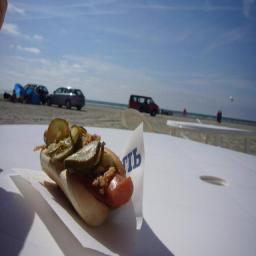hotdog: (86, 164, 134, 207)
